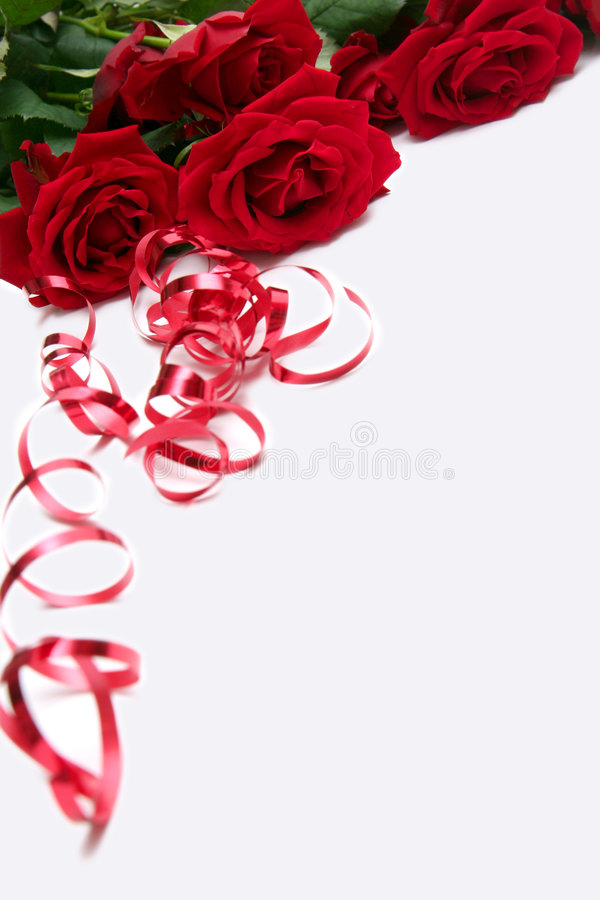RedRose: (7, 119, 223, 362), (162, 77, 422, 274), (337, 0, 588, 161)
